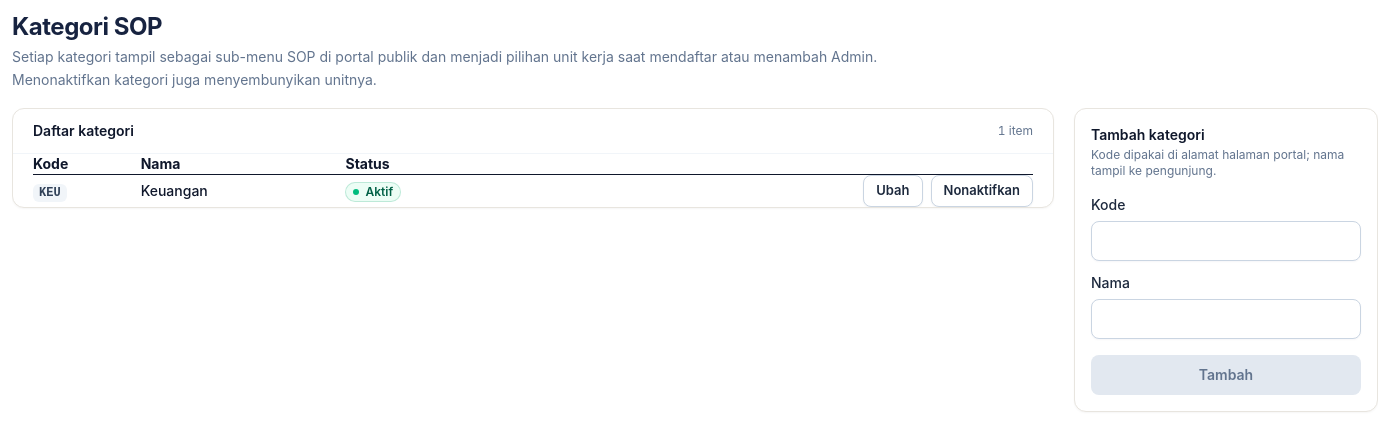
it: Halaman informasi Admin tetap terbuka dengan kontrol perubahan nonaktif › Superadmin tetap dapat mengisi master data
Type "Hukum" into the field labelled "Nama". click: [1226, 318]
box: 1091,298 -> 1361,338
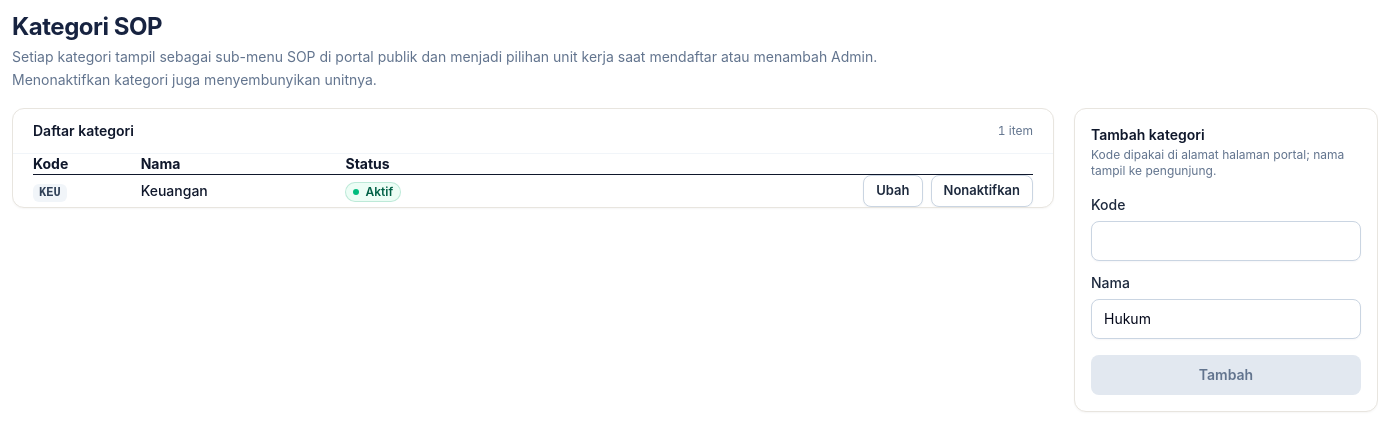
Type "HKM" into the field labelled "Kode". click: [1226, 240]
box: 1091,220 -> 1361,260
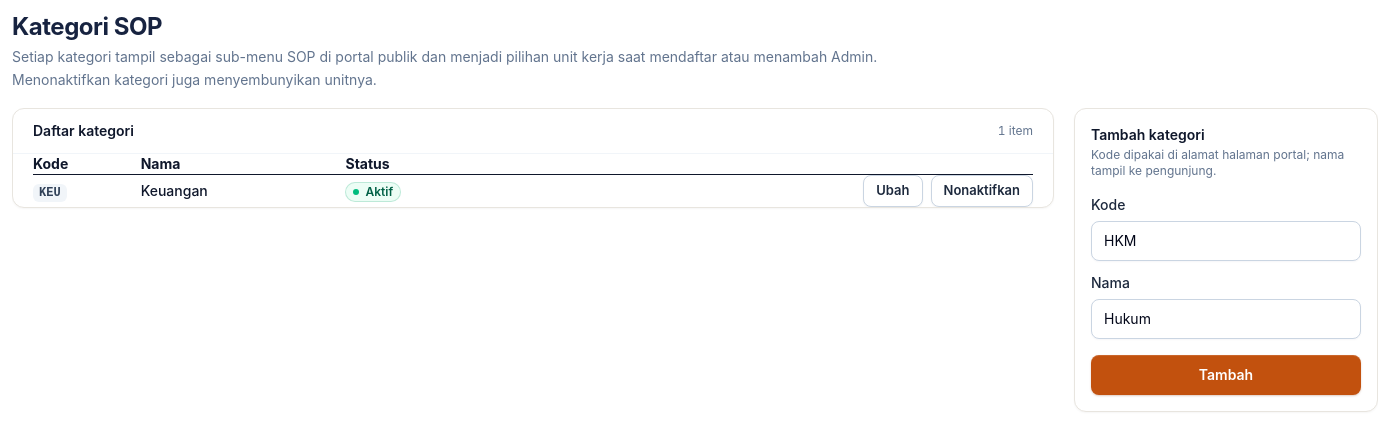
Now the button "Tambah" is enabled, box 1091,354 -> 1361,394
